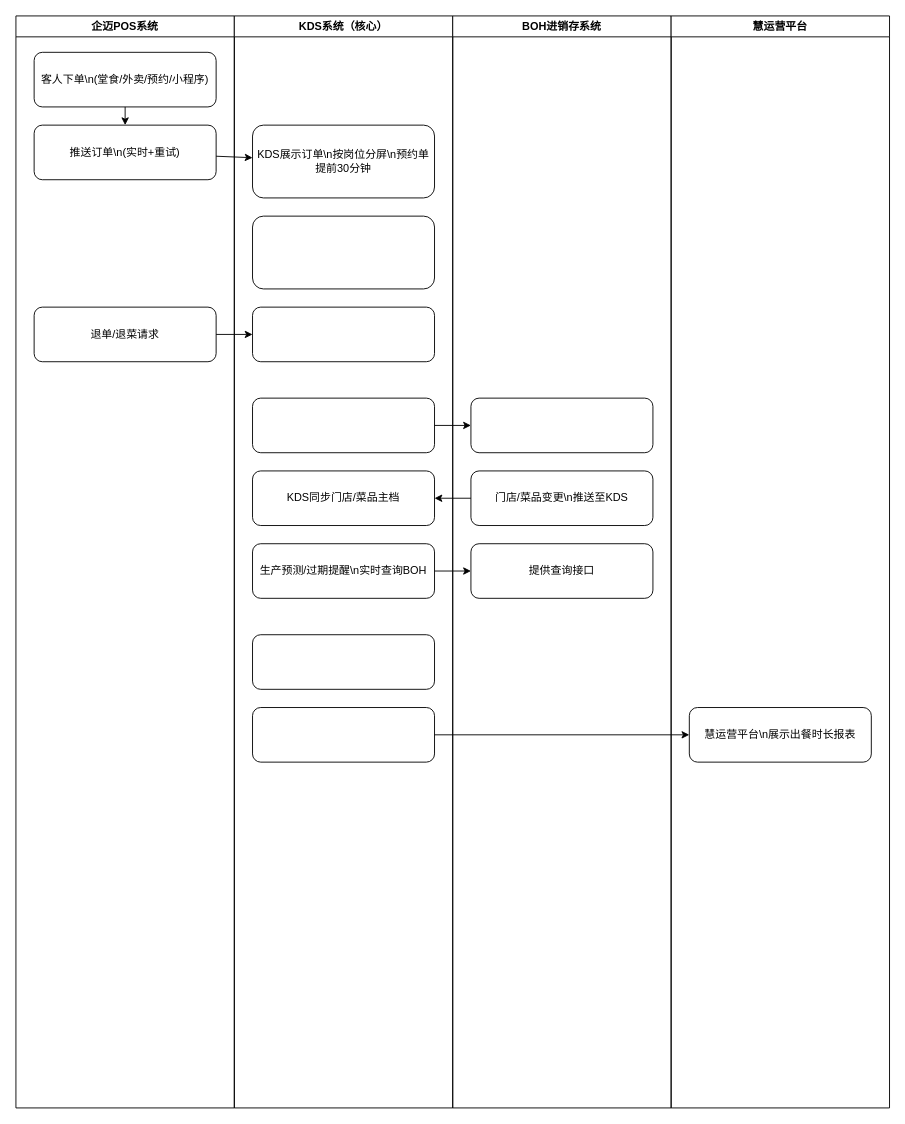
Some shapes in this 905 by 1124 pixel diagram are drawn without their labels. Each missing label, with the centre of its shape:
"KDS展示退单\n打印退单小票" belongs at [343,334].
"员工生产并点击出餐\n打印出餐小票" belongs at [343,252].
"接收订单信息\n用于库存/计算" belongs at [561,425].
"推送订单信息\n(异步消息队列)" belongs at [343,425].
"提供报表链接" belongs at [343,734].
"记录进单/出餐时间\n生成出餐报表" belongs at [343,661].
